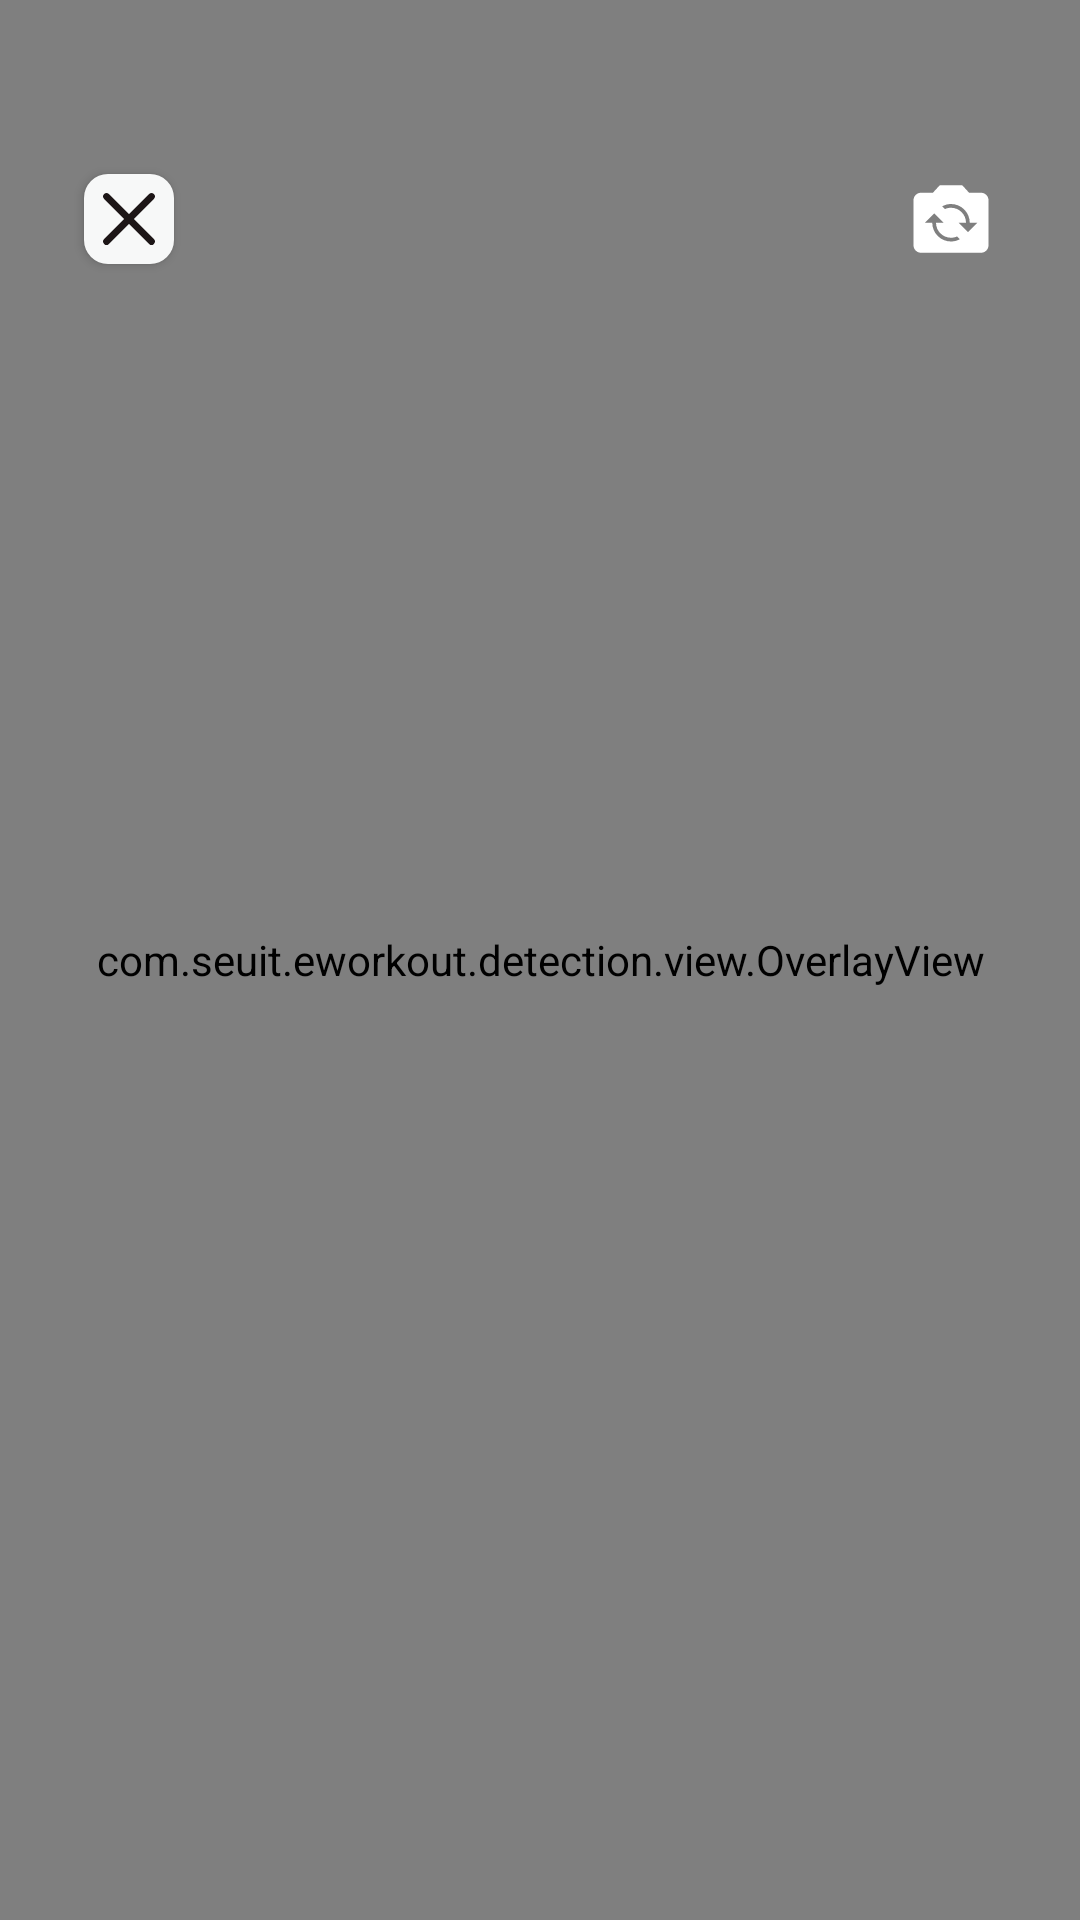

Icons on this 1080w x 1920h Android screen, each with the point to tap as [x,y]:
flip camera: [951,219]
